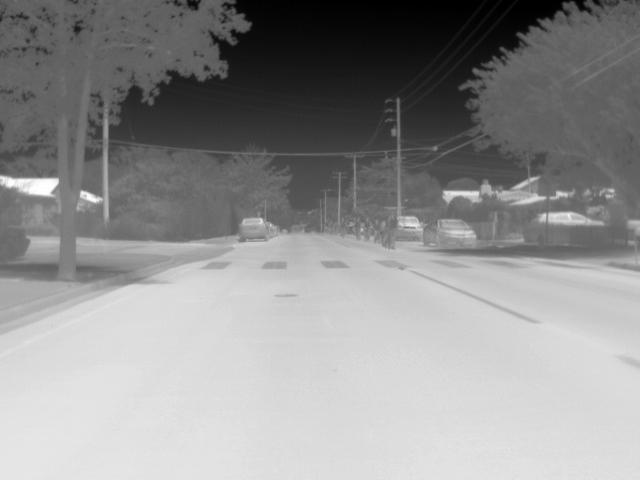car: (422, 218, 480, 248), (540, 209, 605, 226), (238, 215, 271, 243), (395, 215, 424, 241)
person: (386, 211, 398, 245), (361, 214, 374, 239), (371, 219, 383, 238)
